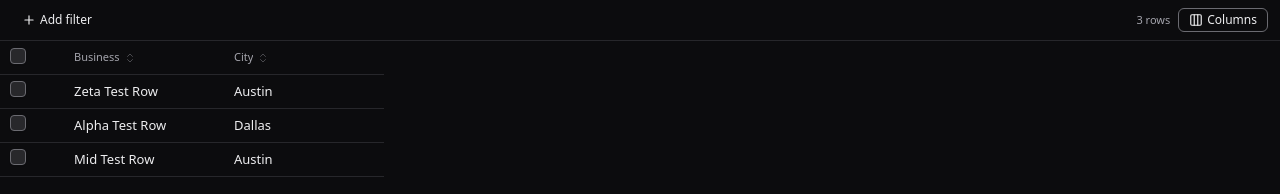
Test: DataTable › counts selected rows
Expected: the text "3 rows" is shown, [1136, 12, 1170, 28]
Click the checkbox named "select row" next to "Zeta Test Row" at (18, 89), box [10, 81, 26, 97]
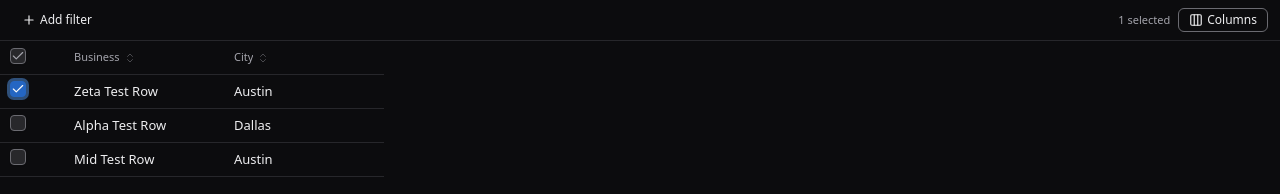
Expected: the text "1 selected" is shown, [1118, 12, 1170, 28]
